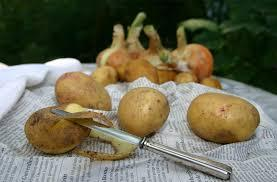Organic: (12, 10, 276, 168)
